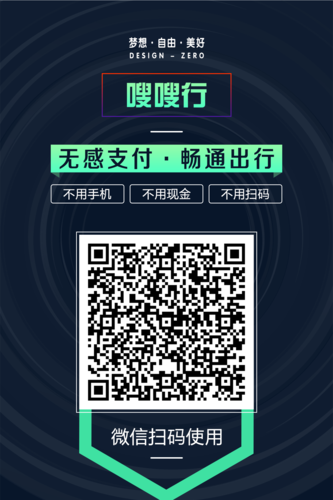QRCode: (83, 240, 251, 407)
